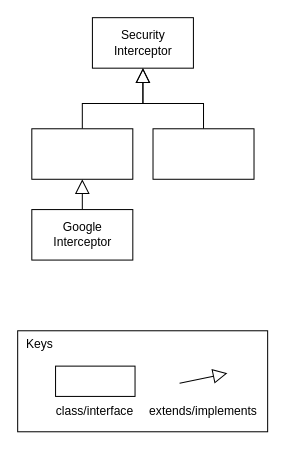
The diagram is 286 pixels wide and 449 high, and some of its shapes have lost their labels. The centre of each missing label's shape, as x and y in pixels:
"Authentication Interceptor" belongs at point (82, 153).
"Authorization Interceptor" belongs at point (203, 153).
